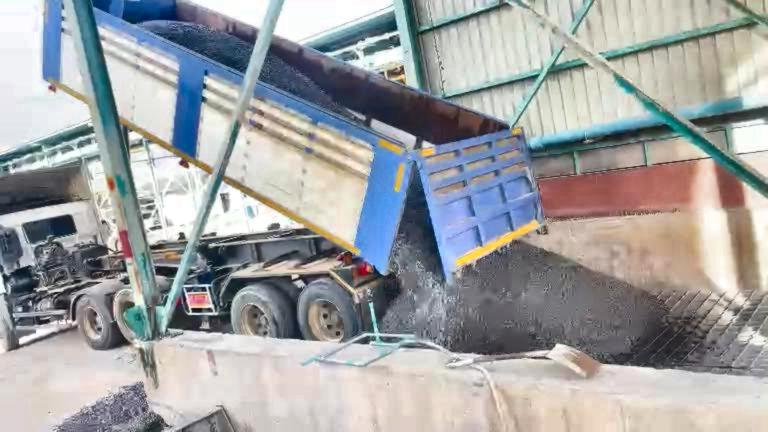gravel: (381, 179, 667, 362), (261, 51, 355, 119), (140, 20, 253, 71), (53, 384, 167, 430)
